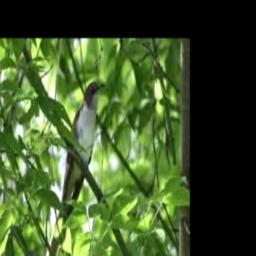Cuckoo: (44, 81, 104, 256)
